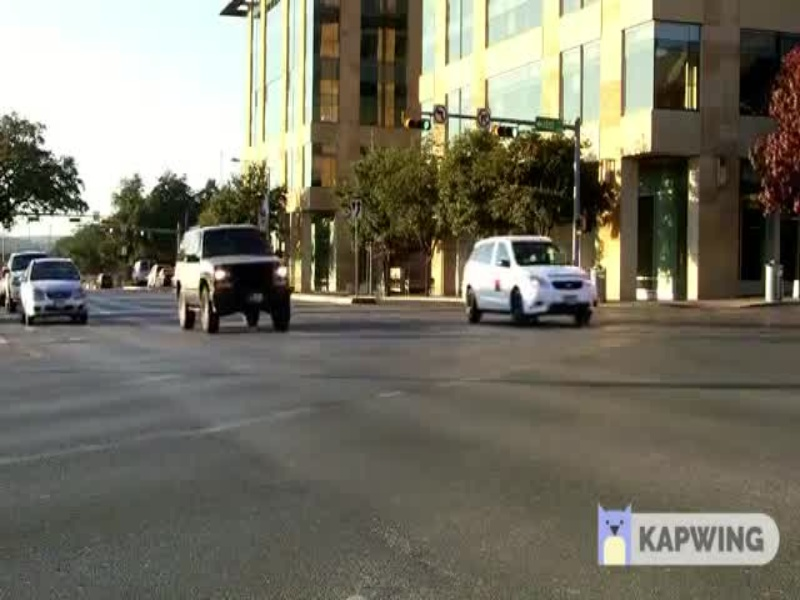car: (16, 257, 99, 327)
suv: (170, 221, 301, 342), (451, 227, 603, 327)
